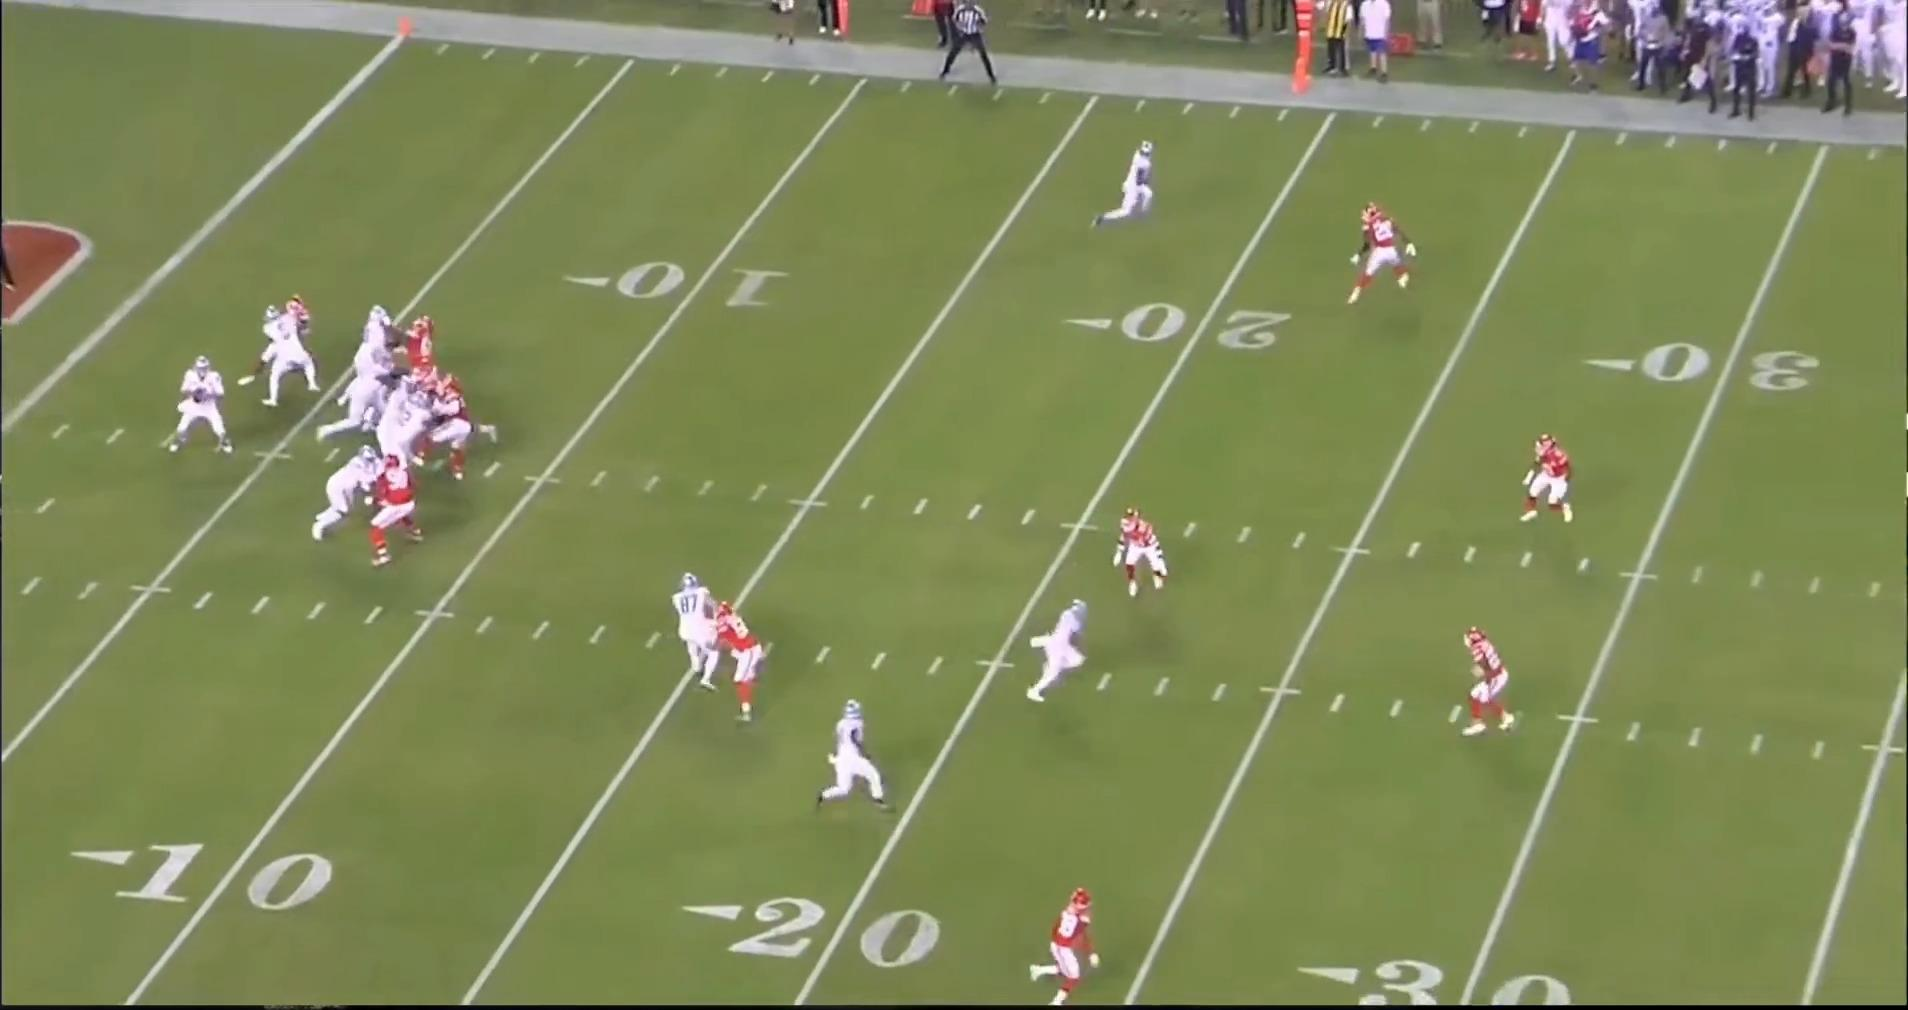player: (820, 699, 901, 818), (1026, 888, 1101, 1010), (1029, 598, 1104, 709), (1337, 200, 1414, 306), (252, 295, 321, 412), (709, 597, 771, 726), (301, 453, 378, 551), (317, 348, 398, 440), (1449, 627, 1512, 743), (170, 350, 239, 454), (359, 460, 423, 571), (672, 573, 729, 697), (1100, 135, 1166, 233), (249, 291, 321, 378), (1112, 507, 1175, 606), (1515, 429, 1574, 531), (423, 369, 499, 447), (420, 378, 471, 480), (372, 395, 433, 472), (391, 315, 440, 389), (355, 304, 403, 379), (374, 373, 422, 444)
ref: (931, 0, 1001, 87)
